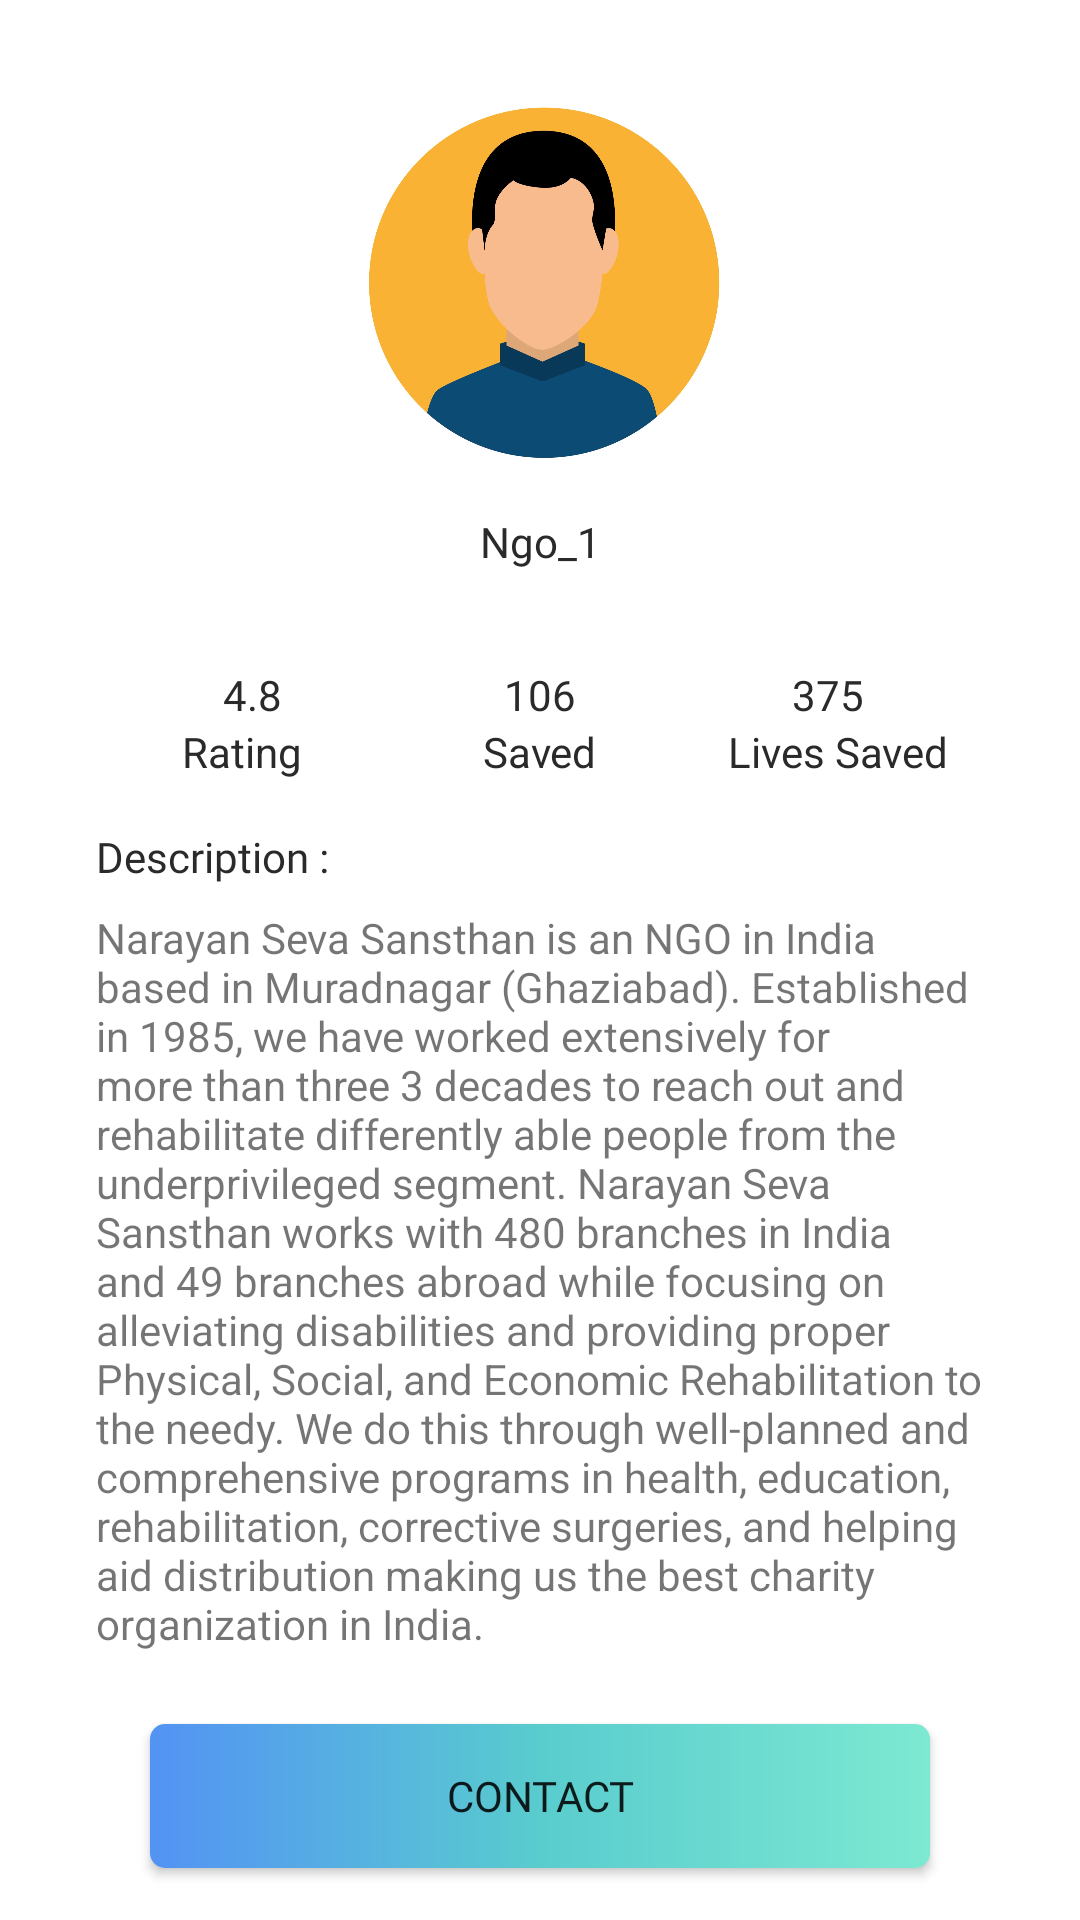

Point at icon controls on the screen. Image size 1080×1920, points as (x=x, y=y).
male: (x=544, y=282)
